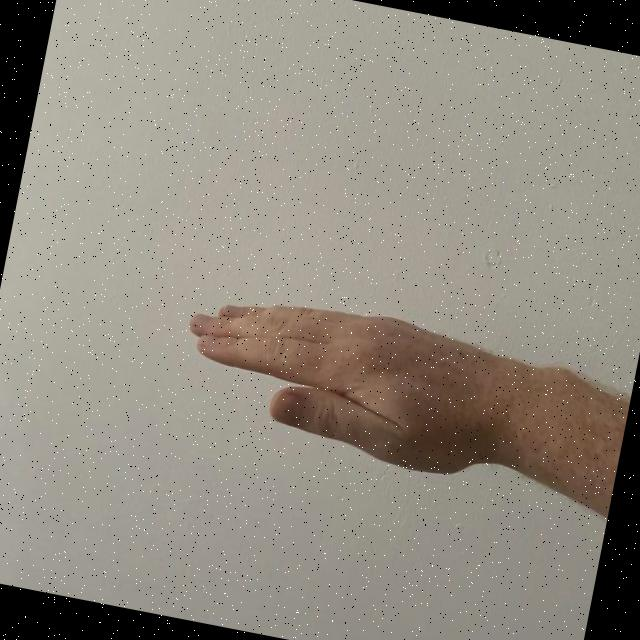papper: (167, 277, 520, 487)
